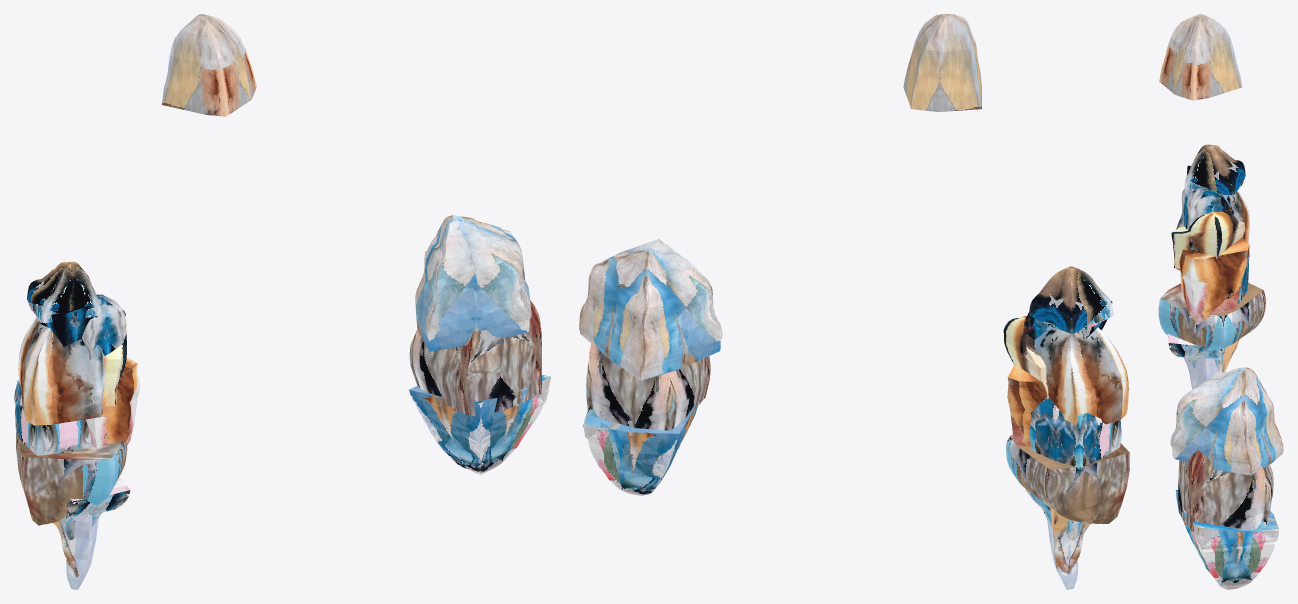
3 views of the same model, side by side, from view 1: azimuth 30°, elevation 25°; view 2: azimuth 150°, elevation 25°; view 3: azimuth 270°, elevation 25° (orthographic). The views are drawn at different scales.
Parts seen in each view (by area): view 1: SPLICE_2 (×6), SPLICE_1 (×6), SPLICE_3 (×2); view 2: SPLICE_2 (×5), SPLICE_1 (×5), SPLICE_3; view 3: SPLICE_1 (×6), SPLICE_2 (×5), SPLICE_3 (×2).
Part boxes in pixels (box(x1,y1,x2,y2)): SPLICE_2 (×6): box(14, 215, 541, 455); SPLICE_1 (×6): box(27, 14, 550, 589); SPLICE_3 (×2): box(16, 433, 130, 540); SPLICE_2 (×5): box(579, 239, 1128, 475); SPLICE_1 (×5): box(582, 14, 1113, 589); SPLICE_3: box(1006, 435, 1129, 523); SPLICE_1 (×6): box(1159, 14, 1278, 589); SPLICE_2 (×5): box(1170, 191, 1283, 531); SPLICE_3 (×2): box(1158, 283, 1265, 371).
Size of the model in its own units: 9.01 by 8.89 by 2.21.
14 materials, 14 textured.
